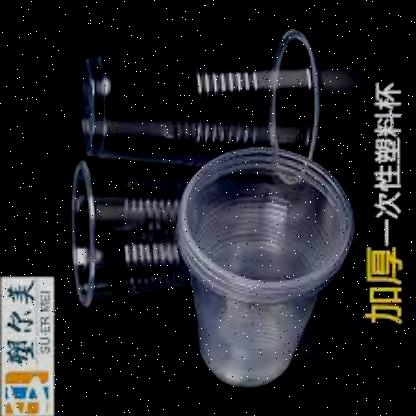Others: (172, 147, 348, 402), (74, 36, 312, 167)
